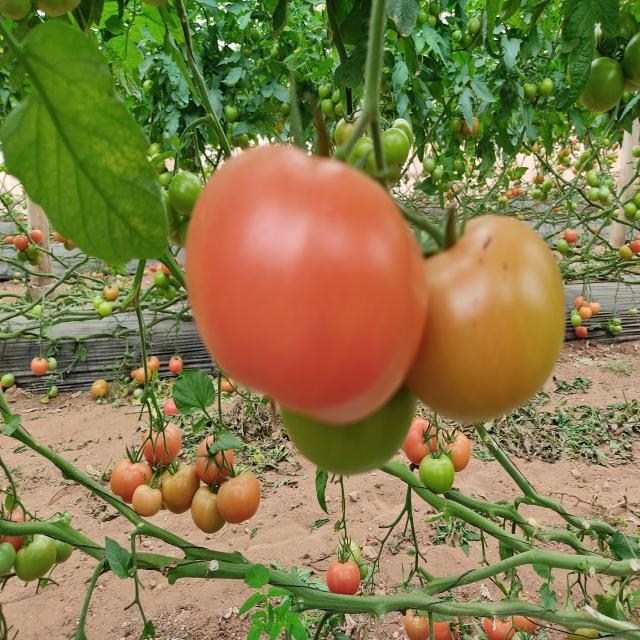Ripe Tomato: (186, 144, 428, 422), (402, 421, 436, 463)
Unripe Tomato: (410, 214, 569, 416), (217, 465, 260, 523), (155, 468, 197, 510), (421, 450, 456, 499), (198, 435, 234, 482), (143, 421, 182, 464), (114, 459, 153, 501), (192, 486, 225, 534), (171, 172, 203, 218), (326, 555, 359, 593), (128, 489, 166, 515)
